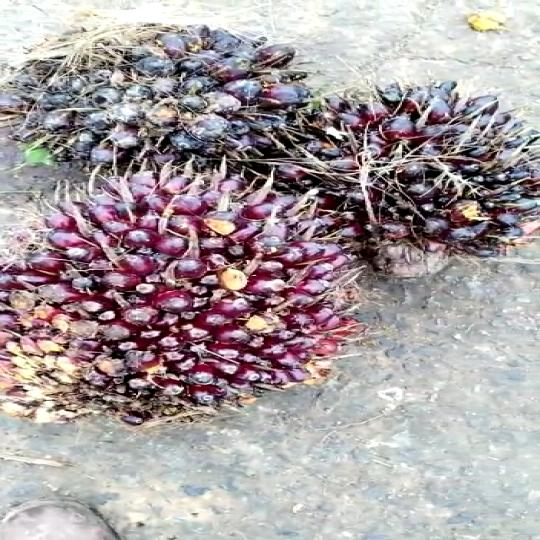kurang masak: (0, 170, 356, 427), (219, 72, 540, 274), (1, 24, 318, 175)
